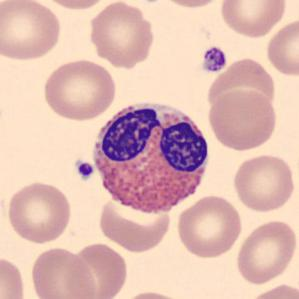Eosinophil: (87, 96, 215, 221)
Platelets: (200, 46, 228, 74), (74, 159, 96, 181), (139, 0, 163, 4)
RBC: (40, 57, 119, 122), (86, 0, 156, 69), (174, 192, 244, 260), (206, 87, 279, 152), (5, 178, 74, 244), (204, 55, 278, 116), (233, 217, 298, 286), (230, 153, 297, 214), (62, 239, 130, 299), (0, 0, 64, 63), (27, 244, 98, 299), (217, 0, 289, 39), (264, 17, 298, 78), (0, 252, 27, 299), (243, 282, 299, 299), (37, 0, 115, 12), (117, 288, 189, 299), (156, 0, 227, 10)
